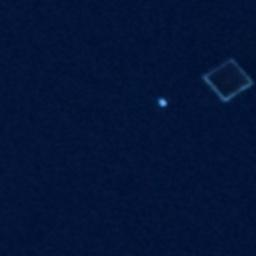square_solid: (202, 54, 256, 103)
